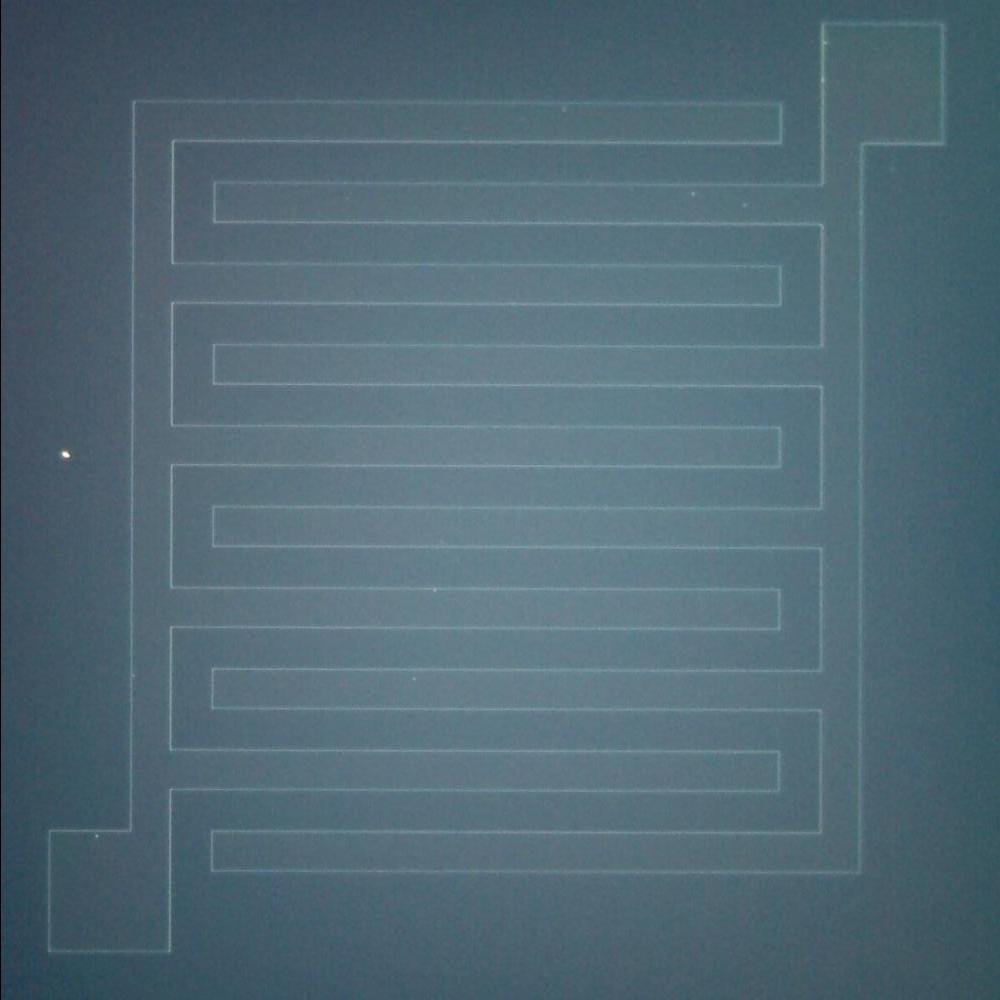dot: (50, 440, 78, 470)
